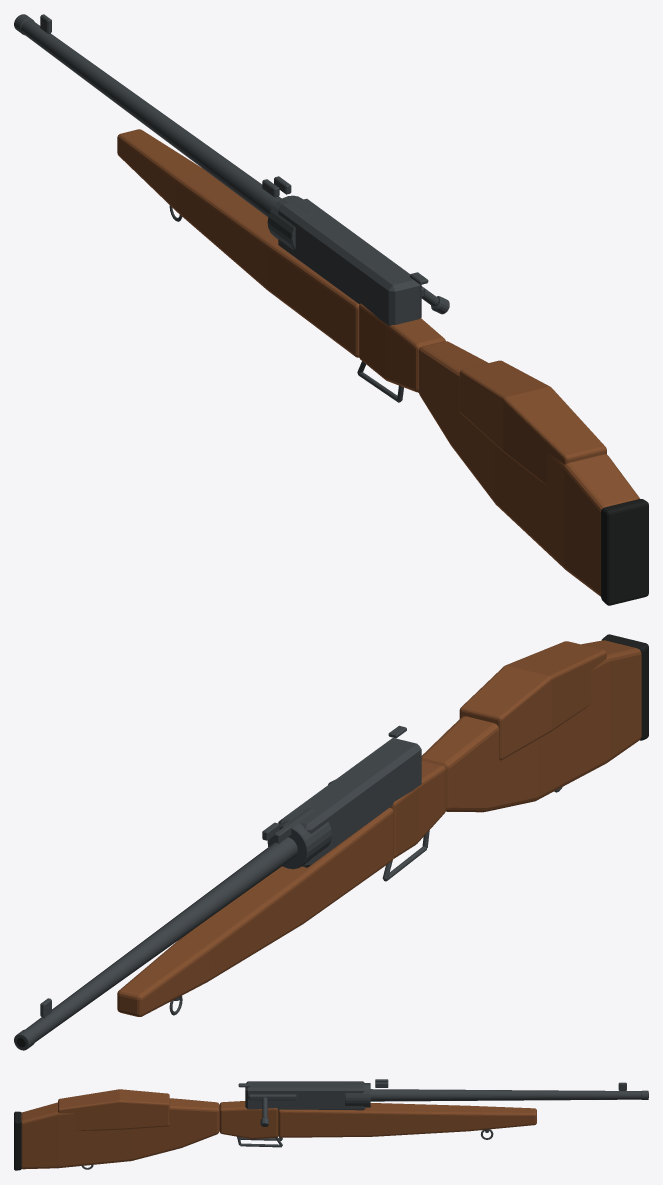
File: hunting_rifle.glb
3 renders of one model, top to bottom at view 1: azimuth 30°, elevation 25°; view 2: azimuth 150°, elevation 25°; view 3: azimuth 270°, elevation 25°, orthographic. The views are drawn at different scales.
Parts seen in each view (by area): view 1: hunting_rifle; view 2: hunting_rifle; view 3: hunting_rifle.
Boxes of the visible parts, bbox=[...] form: hunting_rifle: bbox=[14, 14, 648, 605]; hunting_rifle: bbox=[14, 634, 648, 1050]; hunting_rifle: bbox=[14, 1079, 648, 1170].
Size of the model in its own units: 0.0862 by 0.1663 by 1.08.
